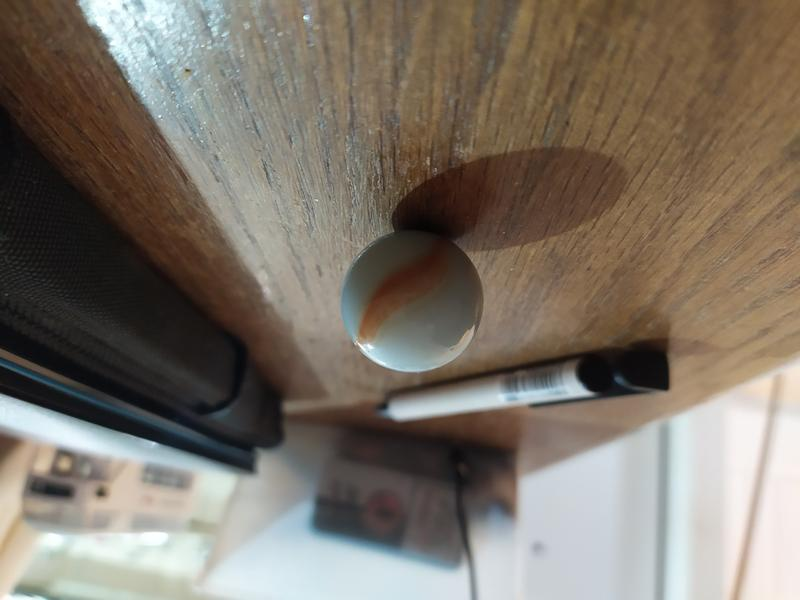Warning: (337, 224, 490, 376)
